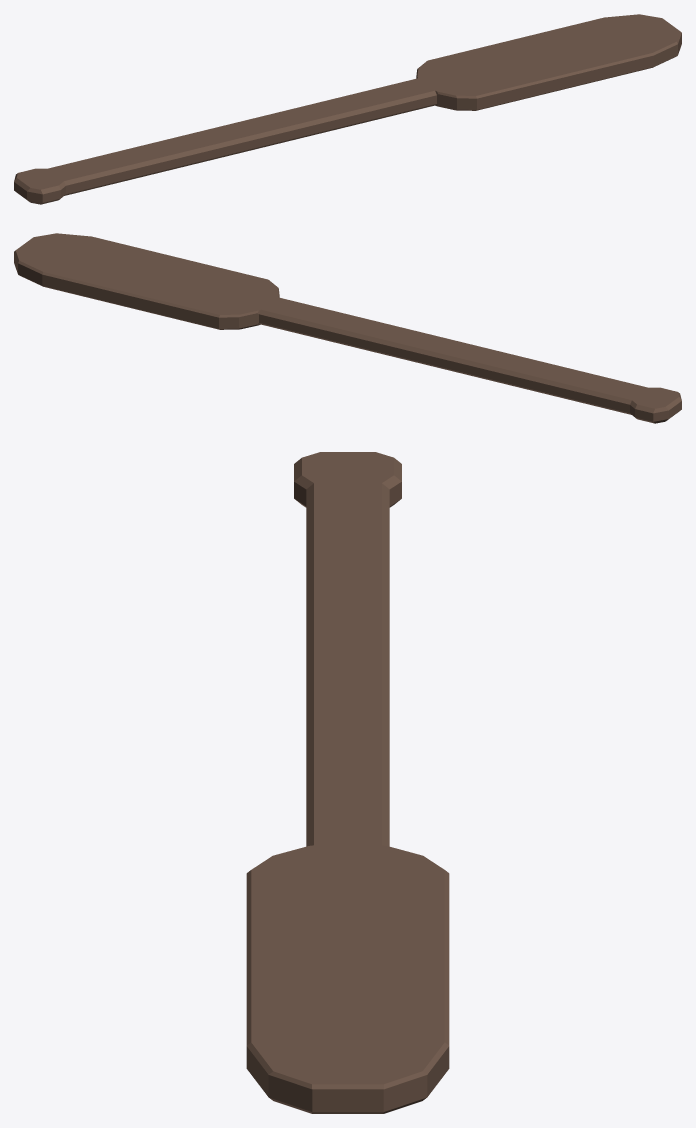
The model's file is paddel.fbx.
The picture shows the model from 3 angles, top to bottom: view 1: azimuth 30°, elevation 25°; view 2: azimuth 150°, elevation 25°; view 3: azimuth 270°, elevation 25°; orthographic projection. The views are drawn at different scales.
Parts seen in each view (by area): view 1: Cube.016; view 2: Cube.016; view 3: Cube.016.
Part boxes in pixels (x1,y1,x2,y2): Cube.016: (14, 14, 681, 204); Cube.016: (14, 233, 681, 423); Cube.016: (246, 452, 449, 1113).
Size of the model in its own units: 364 by 7.92 by 49.
